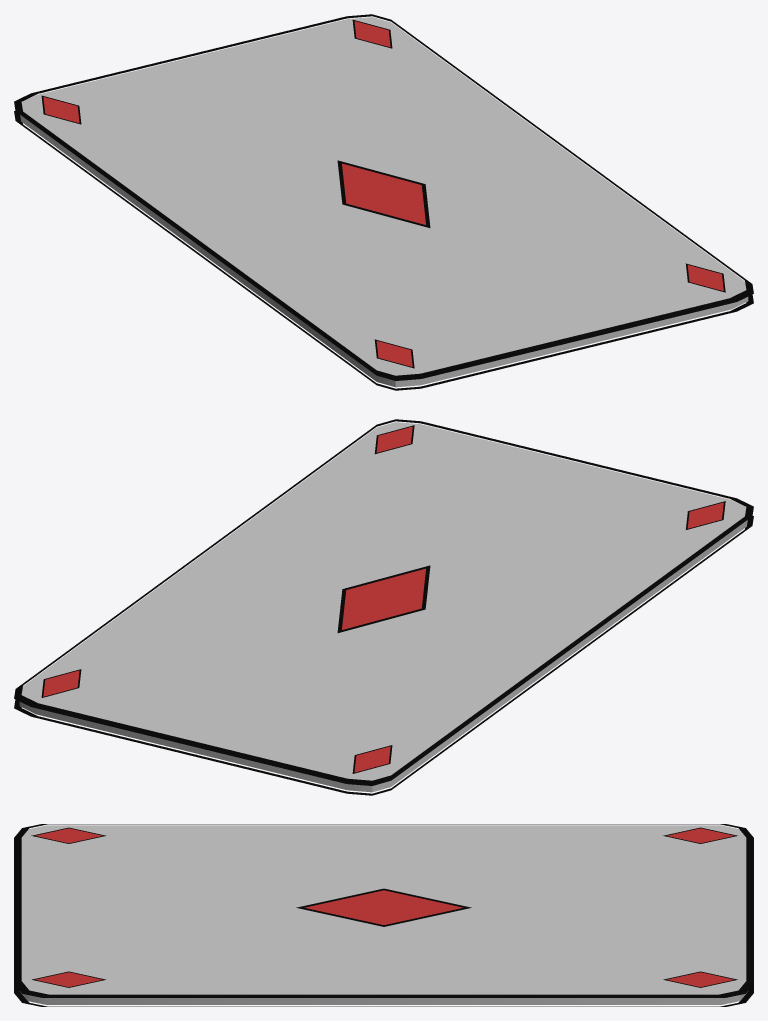
The model's file is Card1.fbx.
The picture shows the model from 3 angles, top to bottom: view 1: azimuth 30°, elevation 25°; view 2: azimuth 150°, elevation 25°; view 3: azimuth 270°, elevation 25°; orthographic projection. The views are drawn at different scales.
Visible parts, largest first — view 1: Cube.026; view 2: Cube.026; view 3: Cube.026.
Boxes of the visible parts, bbox=[...] form: Cube.026: bbox=[14, 14, 753, 390]; Cube.026: bbox=[14, 419, 753, 795]; Cube.026: bbox=[14, 824, 753, 1006].
Bounding box in the file's own units: 86.02 × 3.45 × 155.
